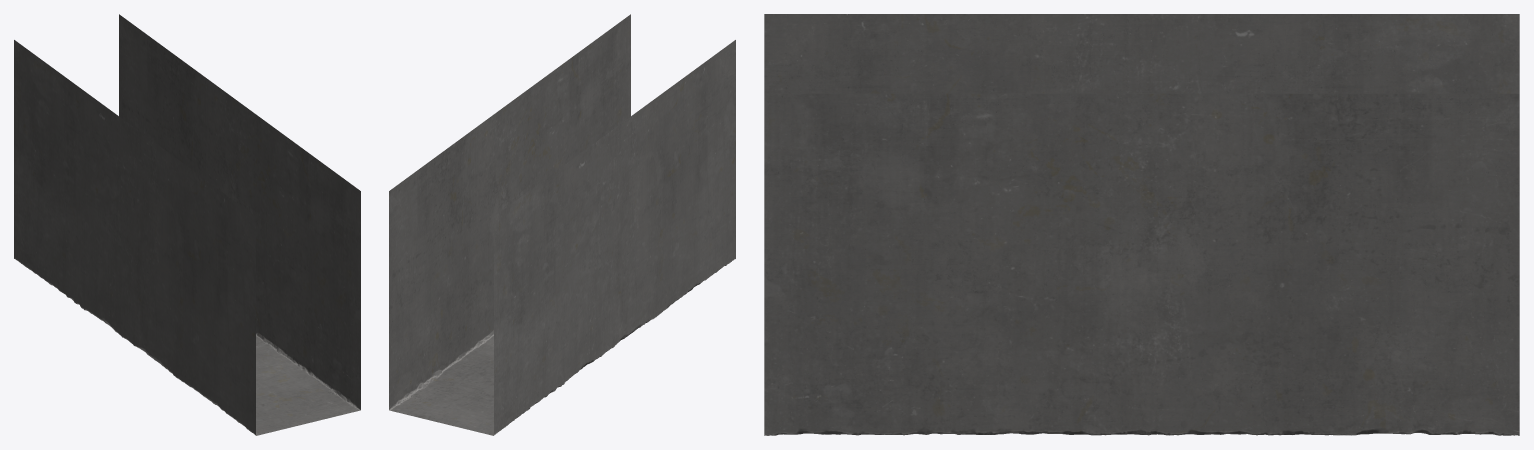
File: SM_Sewer_Wall_Beam_01a.fbx
The picture shows the model from 3 angles, left to right: view 1: azimuth 30°, elevation 25°; view 2: azimuth 150°, elevation 25°; view 3: azimuth 270°, elevation 25°; orthographic projection. The views are drawn at different scales.
Visible parts, largest first — view 1: SM_Sewer_Wall_Beam_01a_LOD0; view 2: SM_Sewer_Wall_Beam_01a_LOD0; view 3: SM_Sewer_Wall_Beam_01a_LOD0.
Part boxes in pixels (box(x1,y1,x2,y2)): SM_Sewer_Wall_Beam_01a_LOD0: box(14, 14, 360, 435); SM_Sewer_Wall_Beam_01a_LOD0: box(389, 14, 735, 435); SM_Sewer_Wall_Beam_01a_LOD0: box(764, 14, 1519, 435).
Bounding box in the file's own units: 50.05 × 200 × 100.
